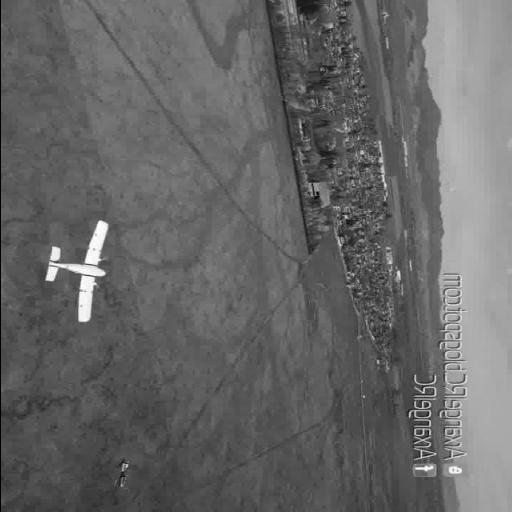uav: (41, 216, 113, 323)
